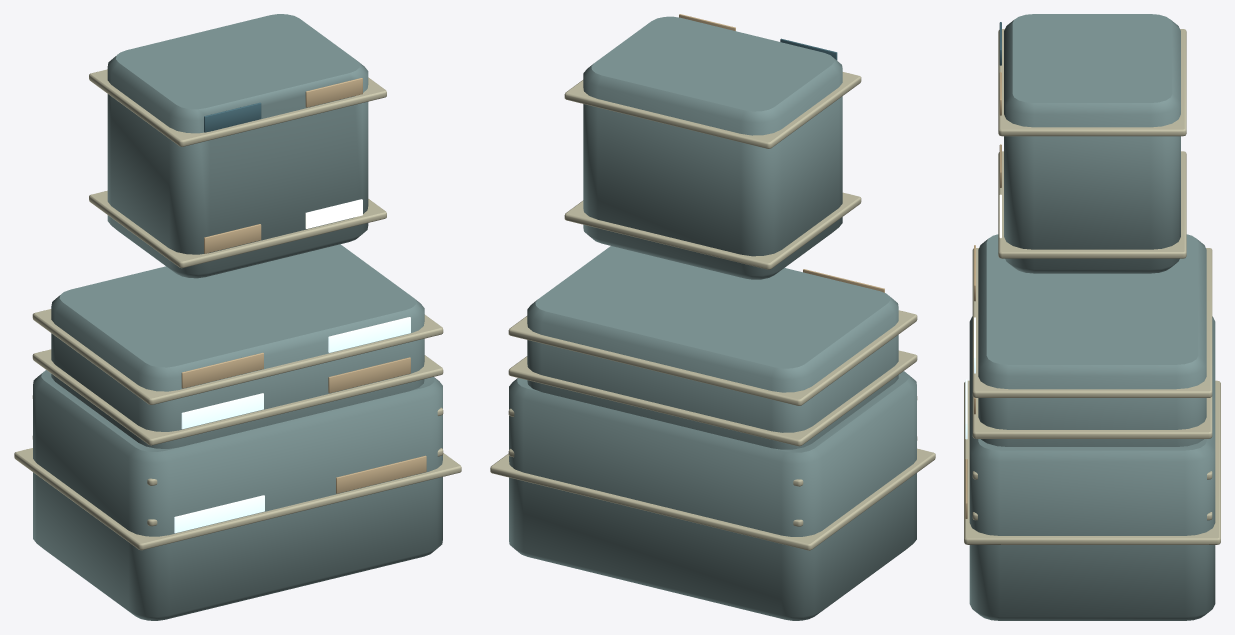
The model's file is japan_skyline_1.glb.
3 renders of one model, left to right at view 1: azimuth 30°, elevation 25°; view 2: azimuth 150°, elevation 25°; view 3: azimuth 270°, elevation 25°, orthographic.
Visible parts, largest first — view 1: JapanSkyline1; view 2: JapanSkyline1; view 3: JapanSkyline1.
Boxes of the visible parts, bbox=[...] form: JapanSkyline1: bbox=[14, 14, 461, 620]; JapanSkyline1: bbox=[490, 14, 935, 620]; JapanSkyline1: bbox=[964, 14, 1220, 620].
Size of the model in its own units: 4 by 5.74 by 2.73.
